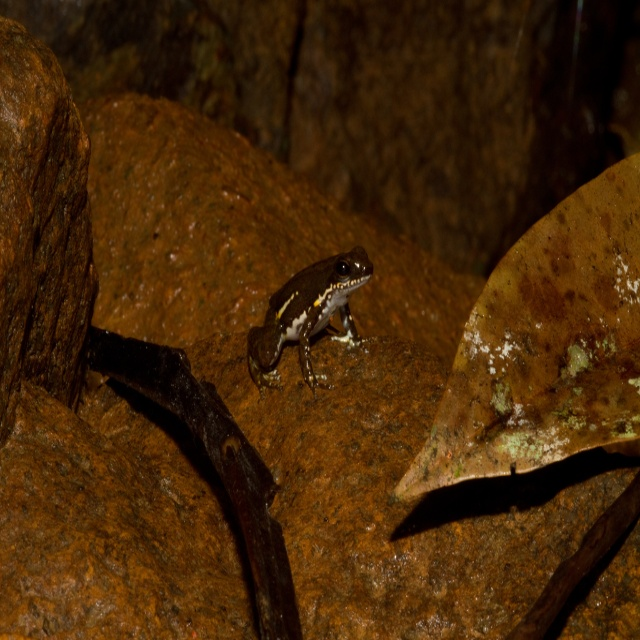Frog: (245, 242, 376, 402)
